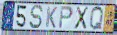5: (16, 4, 27, 28)
K: (45, 6, 58, 30)
P: (58, 5, 74, 30)
Q: (88, 6, 104, 32)
S: (29, 4, 45, 30)
X: (73, 6, 90, 31)
